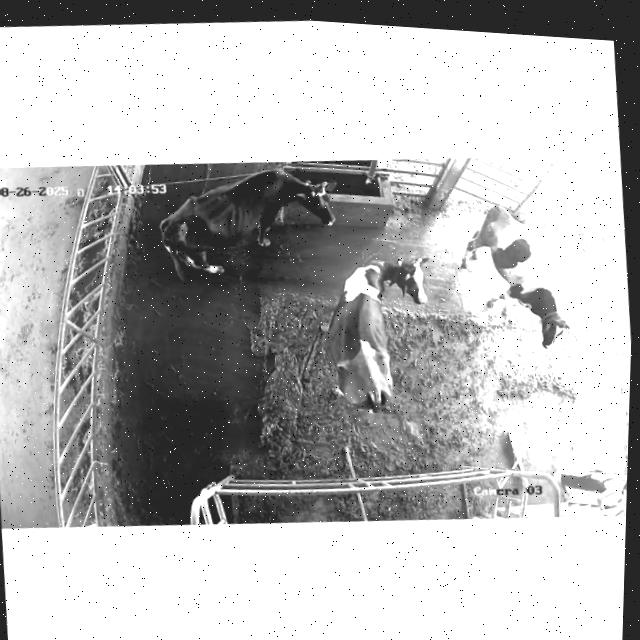stand: (159, 168, 335, 281), (327, 257, 428, 412), (460, 206, 570, 348)
